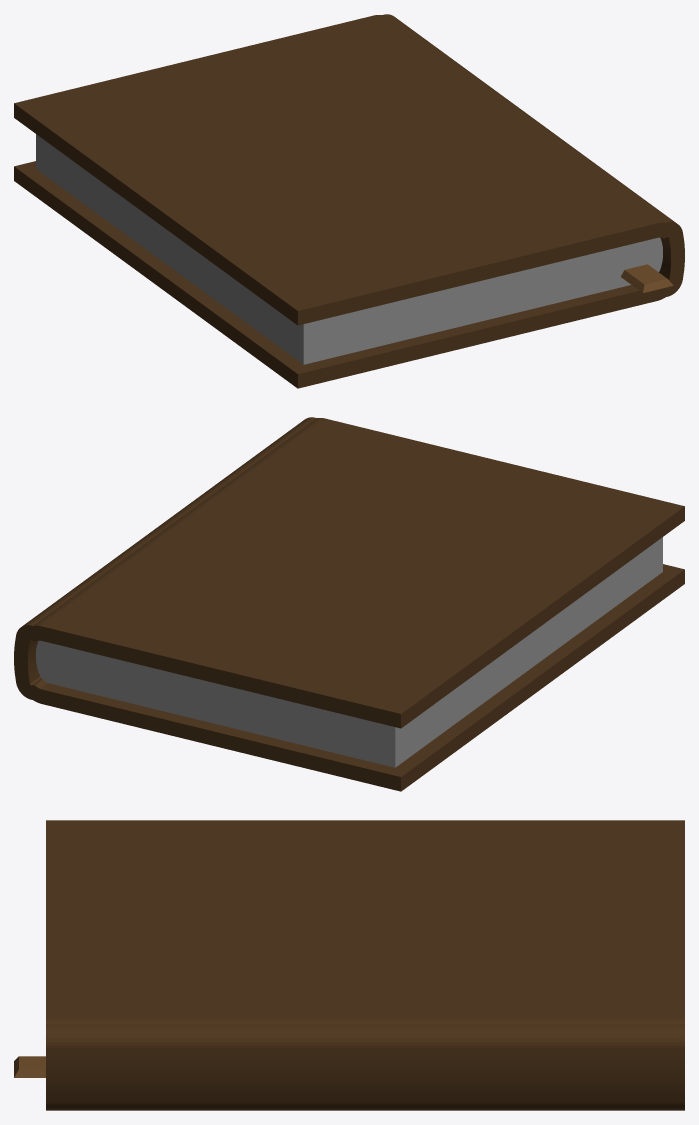
The model's file is Books.glb.
The picture shows the model from 3 angles, top to bottom: view 1: azimuth 30°, elevation 25°; view 2: azimuth 150°, elevation 25°; view 3: azimuth 270°, elevation 25°; orthographic projection. The views are drawn at different scales.
Visible parts, largest first — view 1: Cover, Paper, BookMarkOne; view 2: Cover, Paper; view 3: Cover, BookMarkOne.
Boxes of the visible parts, left/top/right/bottom form: Cover: left=14, top=14, right=684, bottom=388; Paper: left=36, top=134, right=651, bottom=364; BookMarkOne: left=621, top=264, right=673, bottom=292; Cover: left=14, top=417, right=684, bottom=791; Paper: left=47, top=537, right=662, bottom=767; Cover: left=46, top=820, right=684, bottom=1110; BookMarkOne: left=14, top=1056, right=45, bottom=1077.
Size of the model in its own units: 0.2504 by 0.048 by 0.334.
